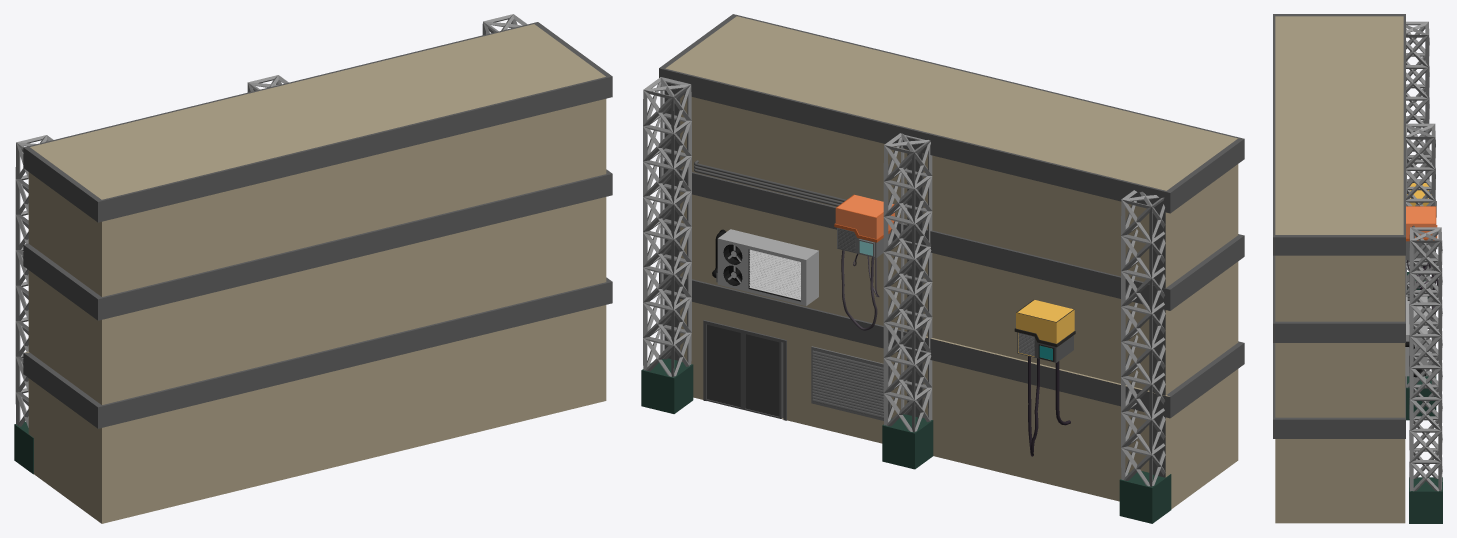
Rendered from Himik_Street_Prop_Building_6.fbx.
The picture shows the model from 3 angles, left to right: view 1: azimuth 30°, elevation 25°; view 2: azimuth 150°, elevation 25°; view 3: azimuth 270°, elevation 25°; orthographic projection. The views are drawn at different scales.
Visible parts, largest first — view 1: PropBulding6_Body, Scaffold_3, Scaffold_Base_3; view 2: PropBulding6_Body, Scaffold_1, Scaffold_2, Scaffold_3, AC MODEL.013, PropBulding6_Door, Shutters, Generator_2, Generator_1, Scaffold_Base_1, Scaffold_Base_2, Scaffold_Base_3; view 3: PropBulding6_Body, Scaffold_1, Scaffold_2, Scaffold_3, Scaffold_Base_1, Generator_1, AC MODEL.013, Scaffold_Base_2.
Part boxes in pixels (<box>): PropBulding6_Body: <box>23,22,612,523</box>; Scaffold_3: <box>15,135,53,427</box>; Scaffold_Base_3: <box>14,421,33,474</box>; PropBulding6_Body: <box>659,14,1244,509</box>; Scaffold_1: <box>643,77,691,377</box>; Scaffold_2: <box>883,133,932,432</box>; Scaffold_3: <box>1121,190,1165,486</box>; AC MODEL.013: <box>712,229,818,306</box>; PropBulding6_Door: <box>706,324,783,418</box>; Shutters: <box>812,350,883,418</box>; Generator_2: <box>1014,299,1075,362</box>; Generator_1: <box>834,194,894,257</box>; Scaffold_Base_1: <box>641,358,693,413</box>; Scaffold_Base_2: <box>882,414,933,469</box>; Scaffold_Base_3: <box>1119,471,1171,523</box>; PropBulding6_Body: <box>1273,14,1405,523</box>; Scaffold_1: <box>1409,227,1442,491</box>; Scaffold_2: <box>1406,123,1435,387</box>; Scaffold_3: <box>1406,21,1429,281</box>; Scaffold_Base_1: <box>1409,477,1442,523</box>; Generator_1: <box>1406,206,1437,260</box>; AC MODEL.013: <box>1405,296,1427,377</box>; Scaffold_Base_2: <box>1406,375,1436,420</box>.
Bounding box in the file's own units: 3642 × 1170 × 2192.
24 materials, 24 textured.
